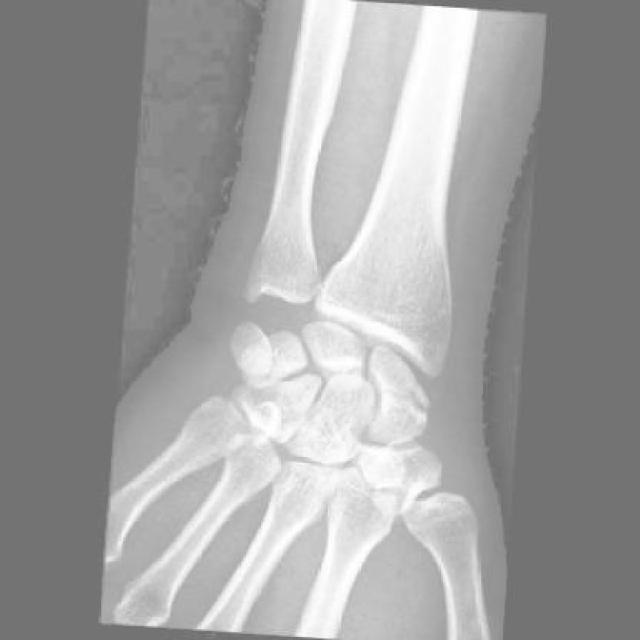Fracture: (365, 381, 436, 438)
